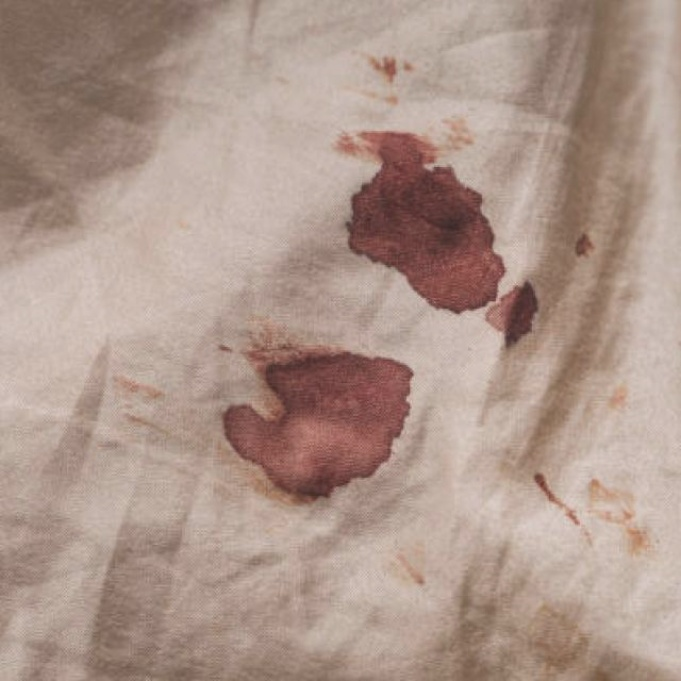blood: (338, 131, 544, 335), (229, 354, 414, 491)
